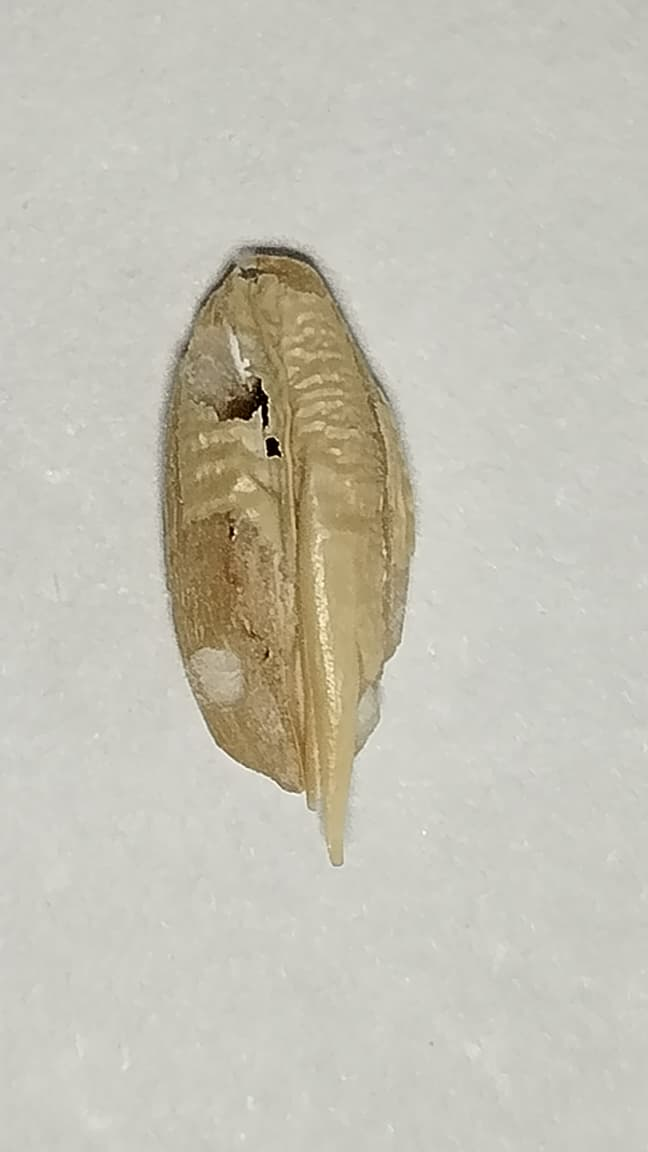damage: (167, 254, 405, 863)
insectdamage: (177, 302, 290, 459), (167, 616, 257, 719), (254, 642, 276, 677)
